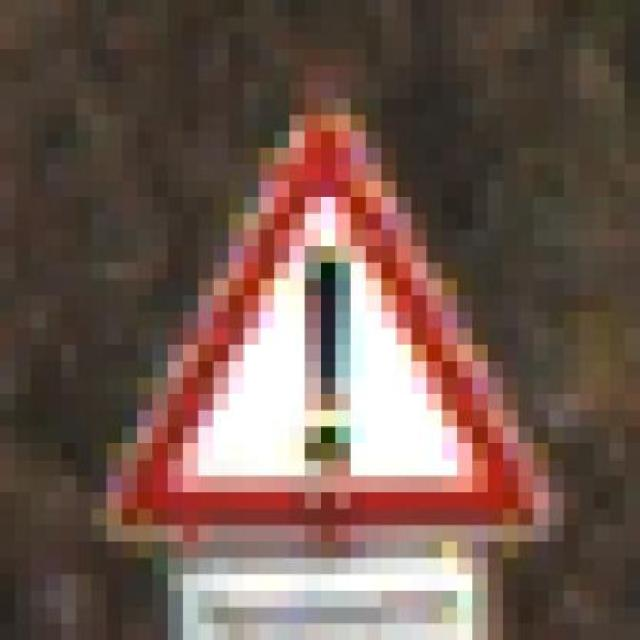Attention Please-: (76, 99, 579, 558)
